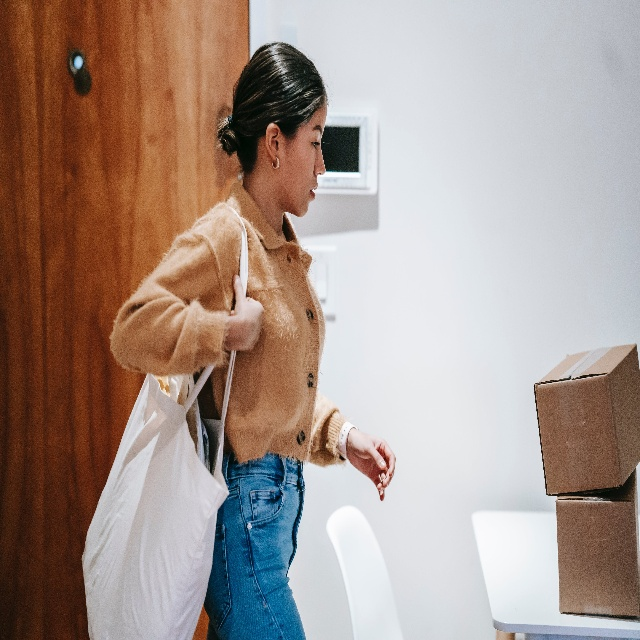Sin_guantes: (348, 429, 395, 503), (227, 273, 265, 352)
